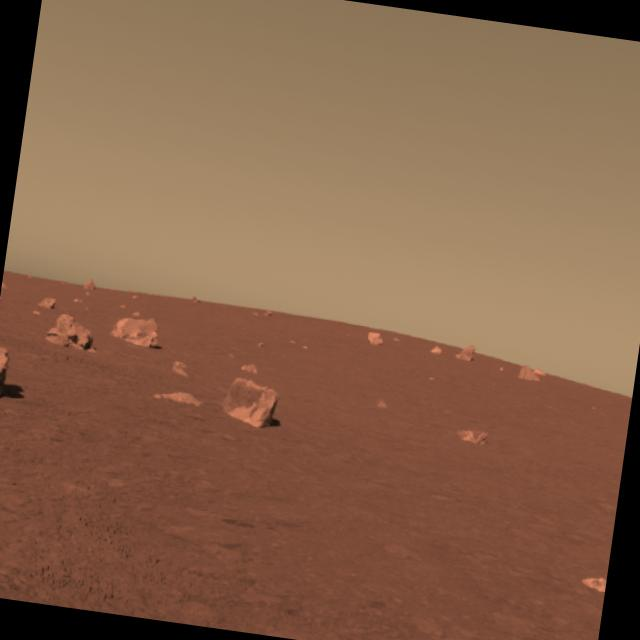rock: (215, 374, 287, 436), (103, 306, 169, 358)
